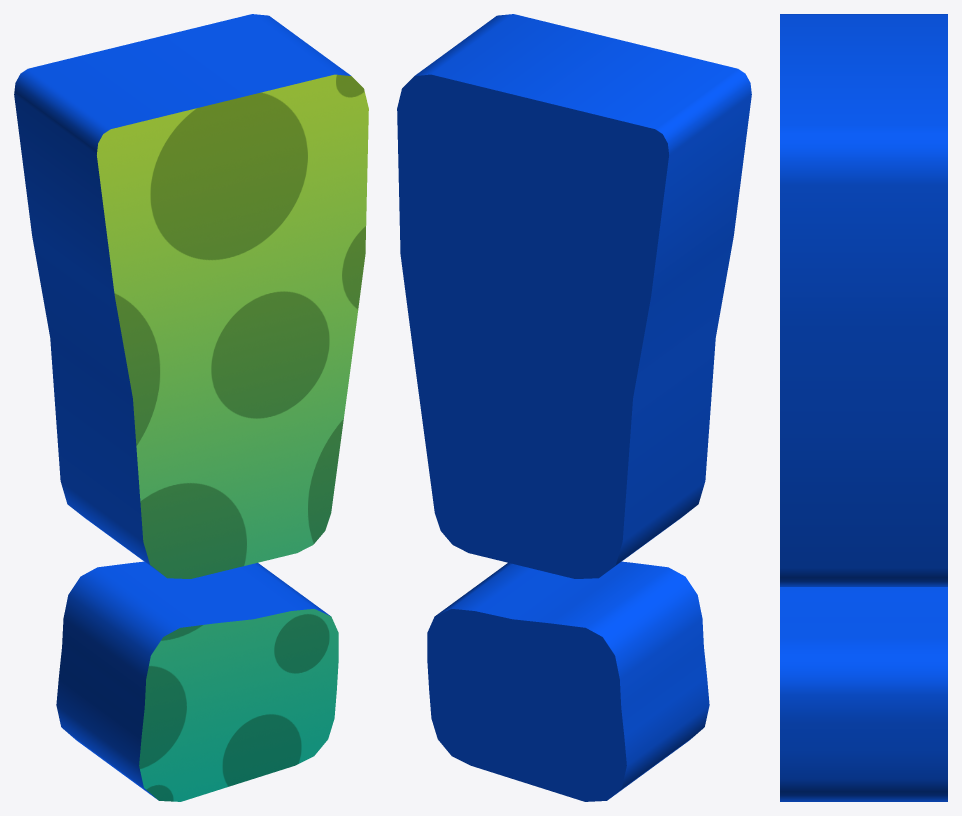
The model's file is Exclamation.FBX.
The picture shows the model from 3 angles, left to right: view 1: azimuth 30°, elevation 25°; view 2: azimuth 150°, elevation 25°; view 3: azimuth 270°, elevation 25°; orthographic projection.
Visible parts, largest first — view 1: Exclamation; view 2: Exclamation; view 3: Exclamation.
Boxes of the visible parts, x1,y1,x2,y2 form: Exclamation: [14, 14, 368, 801]; Exclamation: [397, 14, 751, 801]; Exclamation: [780, 14, 947, 801].
Size of the model in its own units: 37.99 by 92.04 by 20.
Materials: 2 (1 with a texture image).
